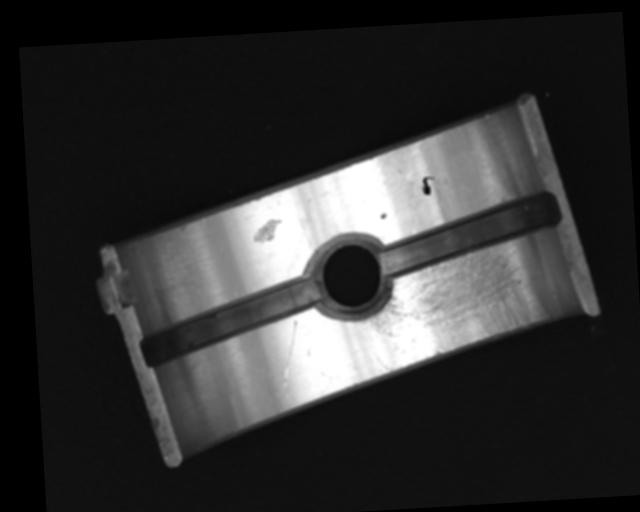blot: (420, 175, 437, 196)
bruise: (251, 218, 283, 246), (379, 212, 387, 219)
gap: (139, 273, 323, 366), (375, 190, 563, 274)
hole: (304, 231, 394, 320)
nick: (280, 319, 301, 387)
scratch: (364, 232, 552, 373)
